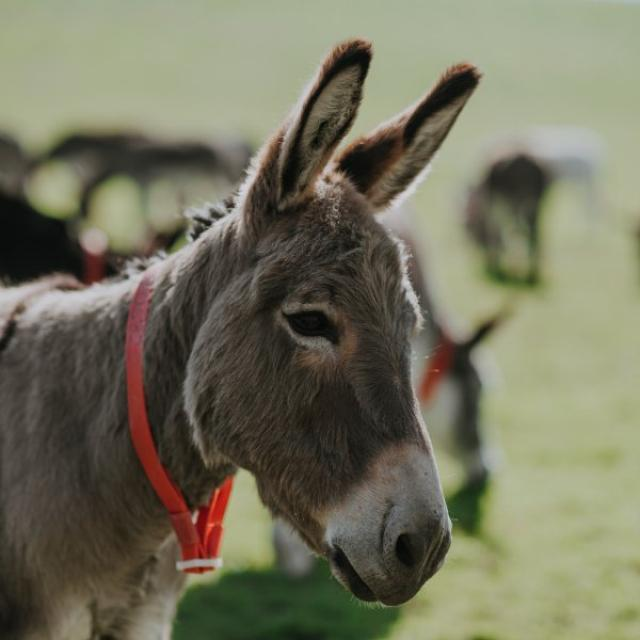Donkey: (0, 36, 500, 638)
